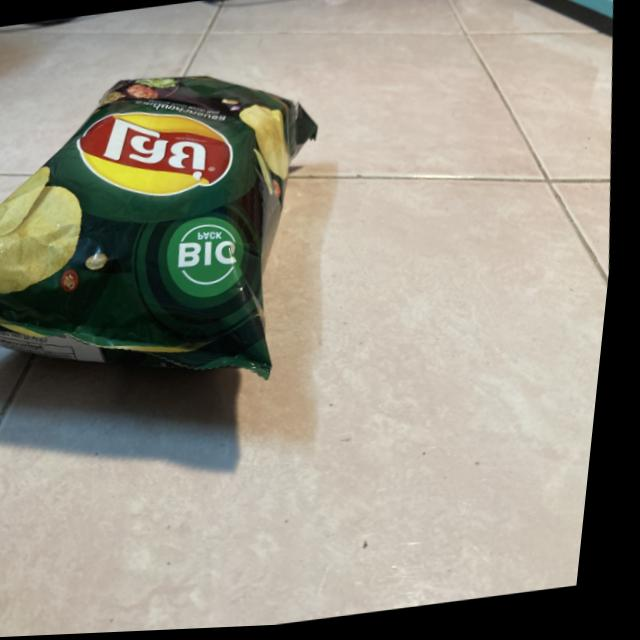Laygreen: (0, 49, 389, 448)
